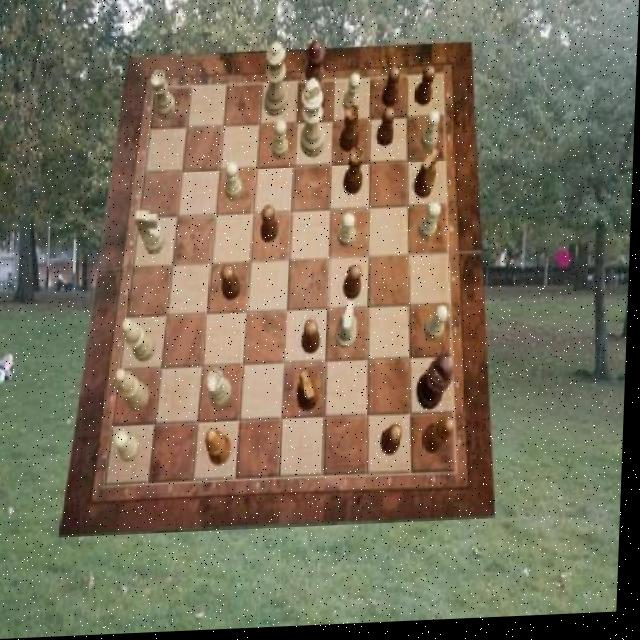bishop: (424, 422, 458, 459), (207, 430, 235, 469)
black-bishop: (419, 361, 457, 416)
black-king: (414, 152, 440, 204), (299, 373, 323, 415)
black-knight: (415, 69, 436, 110), (222, 266, 244, 302), (377, 111, 396, 151), (382, 69, 400, 111), (384, 427, 406, 460), (261, 207, 280, 245), (304, 321, 324, 356), (346, 267, 364, 304)
black-pawn: (302, 42, 327, 122)
black-queen: (343, 150, 364, 199), (340, 108, 361, 156)
black-rook: (123, 319, 159, 363), (116, 370, 152, 413)
white-bishop: (300, 81, 327, 162)
white-king: (135, 211, 168, 256), (338, 306, 361, 352)
white-knight: (418, 206, 443, 245), (116, 431, 144, 465), (425, 308, 450, 345), (422, 115, 441, 156), (342, 76, 360, 117), (272, 123, 290, 163), (226, 164, 244, 203), (340, 216, 358, 251)
white-pawn: (265, 44, 291, 119)
white-queen: (149, 71, 178, 121), (210, 371, 235, 411)
